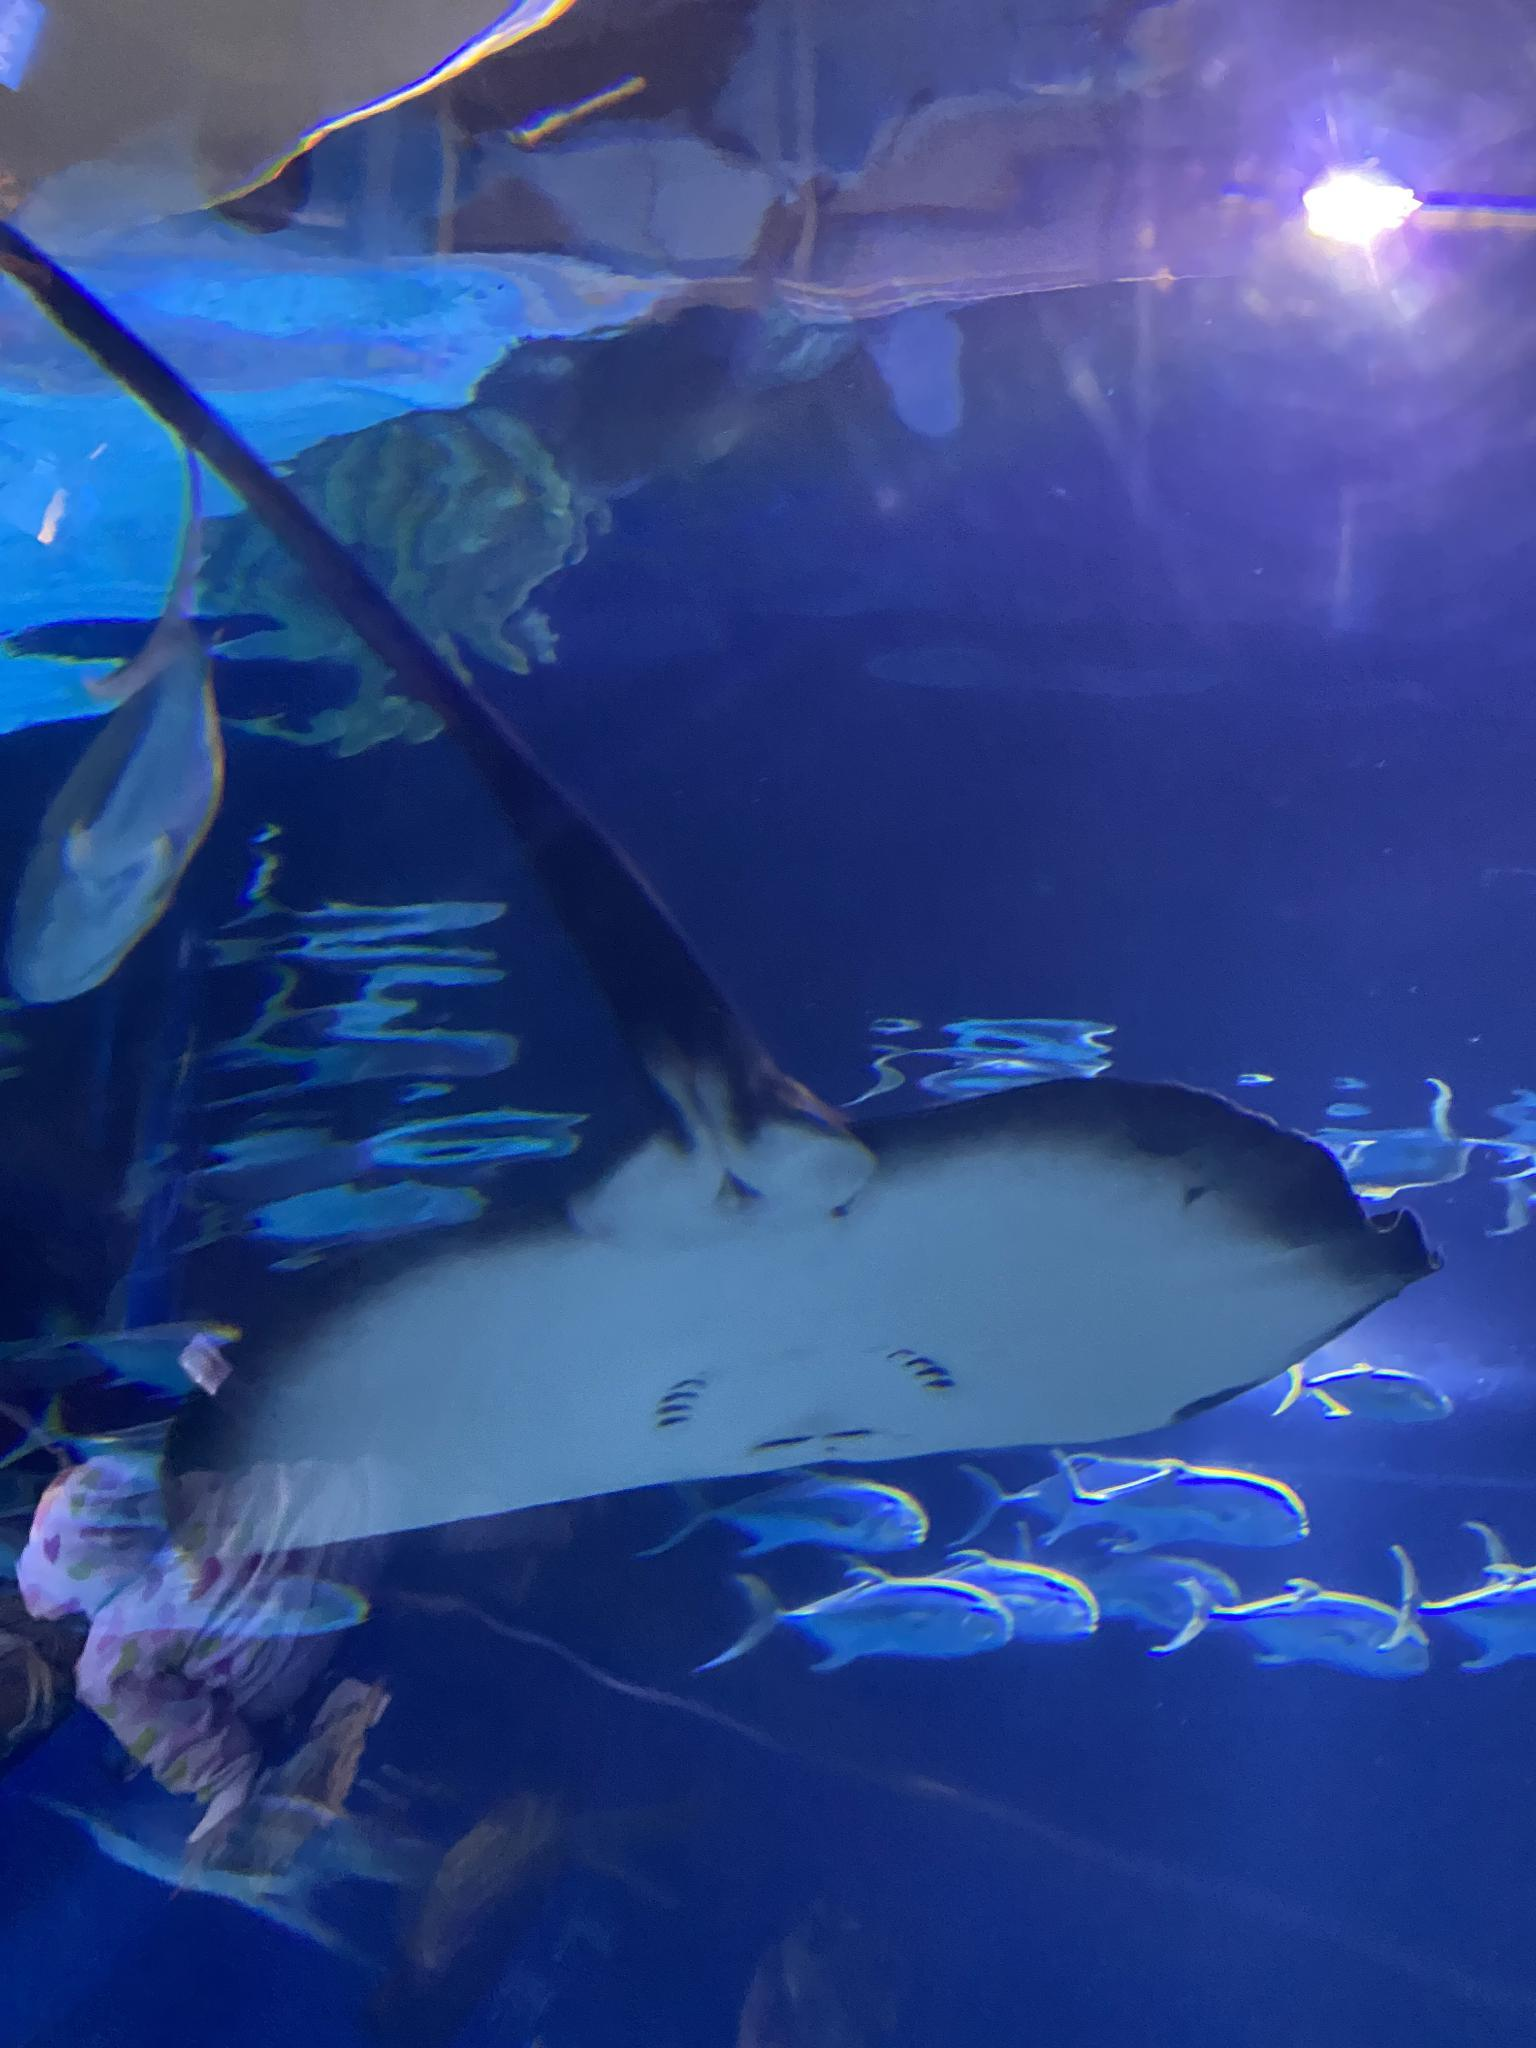fish: (2, 437, 223, 1000), (687, 1567, 1015, 1674), (1150, 1572, 1430, 1680), (631, 1464, 928, 1561), (1049, 1450, 1310, 1551), (944, 1450, 1162, 1550), (1376, 1543, 1534, 1671), (921, 1550, 1099, 1646), (1271, 1359, 1455, 1422)
stingray: (160, 1071, 1434, 1559)
